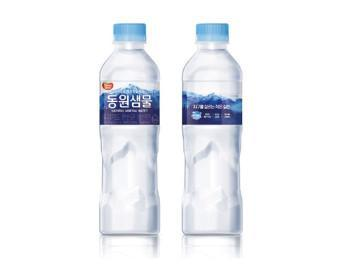bottle: (180, 22, 247, 237), (98, 23, 162, 235)
